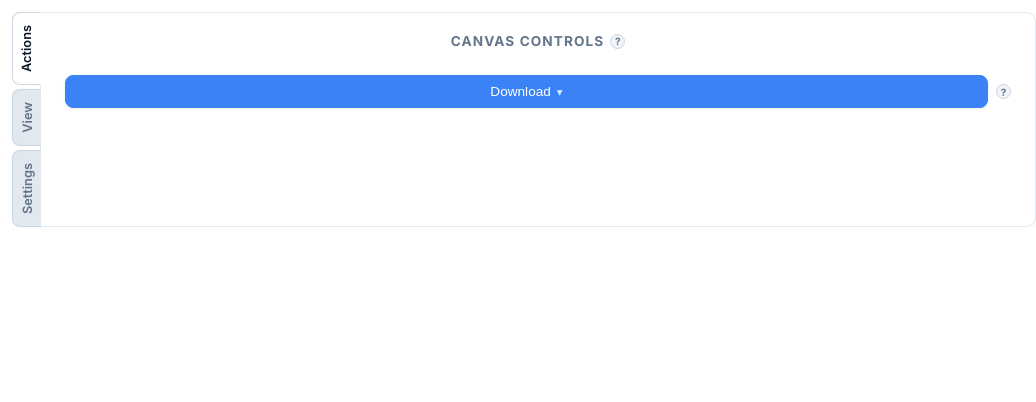
Scenario: CanvasControls help icons › shows help icons for all three zoom controls in the View tab
The image size is (1036, 402).
Click the button "View" at (26, 118), box x1=12 y1=89 x2=41 y2=146
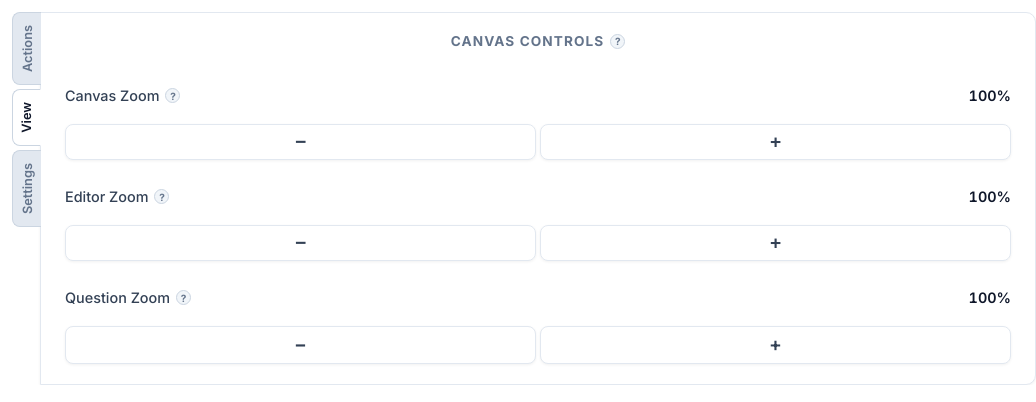
Expected: the button named "Help: Canvas Zoom" is shown, x1=166 y1=88 x2=180 y2=103
Expected: the button named "Help: Editor Zoom" is shown, x1=154 y1=189 x2=169 y2=204
Expected: the button named "Help: Question Zoom" is shown, x1=176 y1=290 x2=191 y2=305
